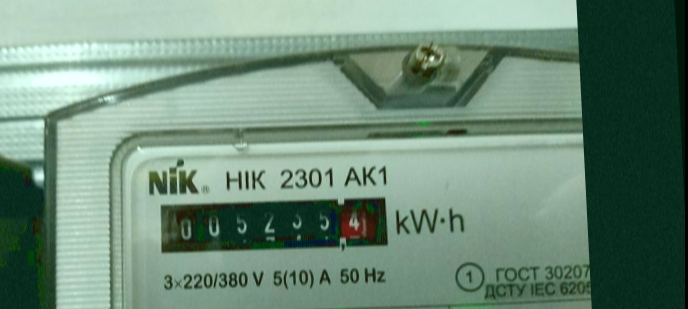0: (179, 214, 196, 241), (208, 211, 223, 236)
2: (263, 207, 278, 233)
3: (290, 204, 306, 229)
4: (348, 205, 364, 231)
5: (317, 203, 334, 231), (235, 208, 251, 235)
screen: (151, 183, 402, 264)
